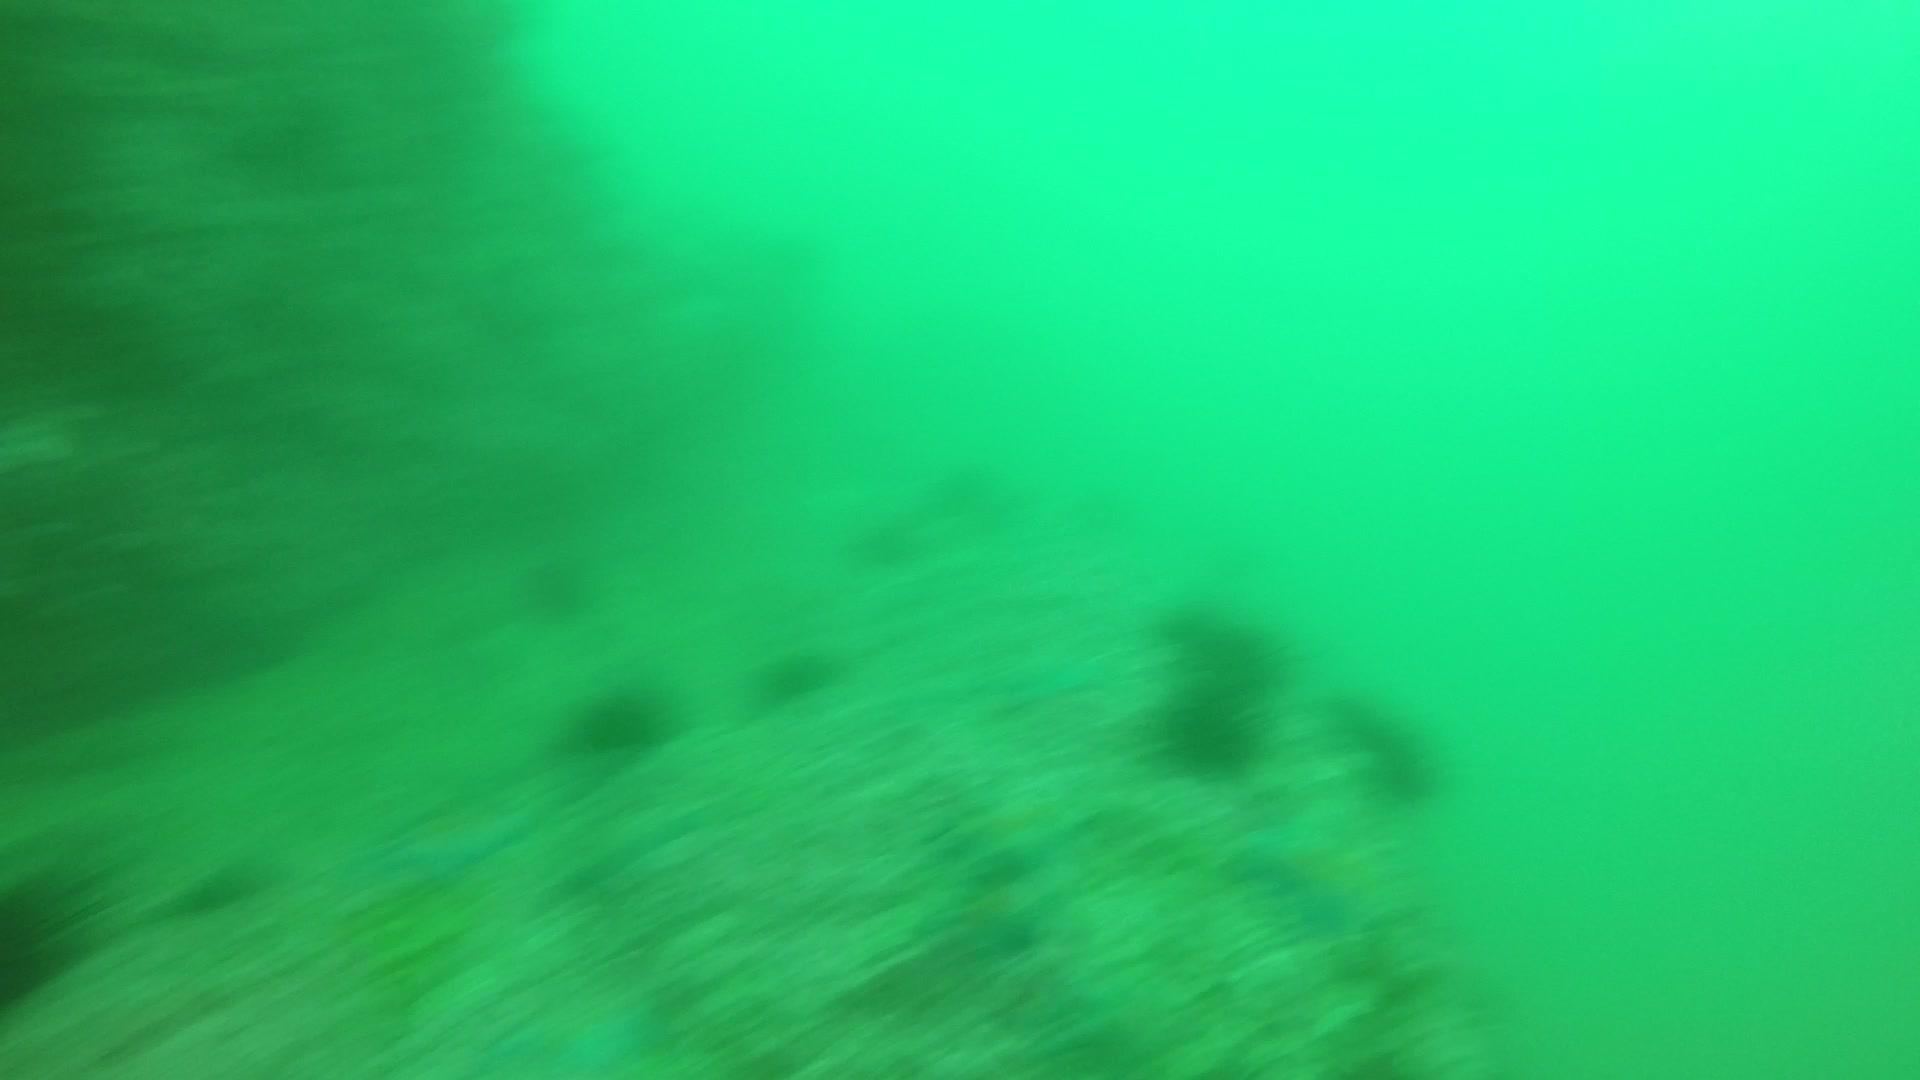echinus: (1325, 684, 1451, 807), (1, 866, 92, 1015), (1155, 593, 1294, 690), (1153, 680, 1267, 781), (560, 675, 678, 761), (514, 543, 601, 622), (167, 853, 276, 914), (753, 637, 843, 709)
starfish: (1232, 800, 1416, 942), (345, 798, 535, 899), (483, 977, 667, 1075)
